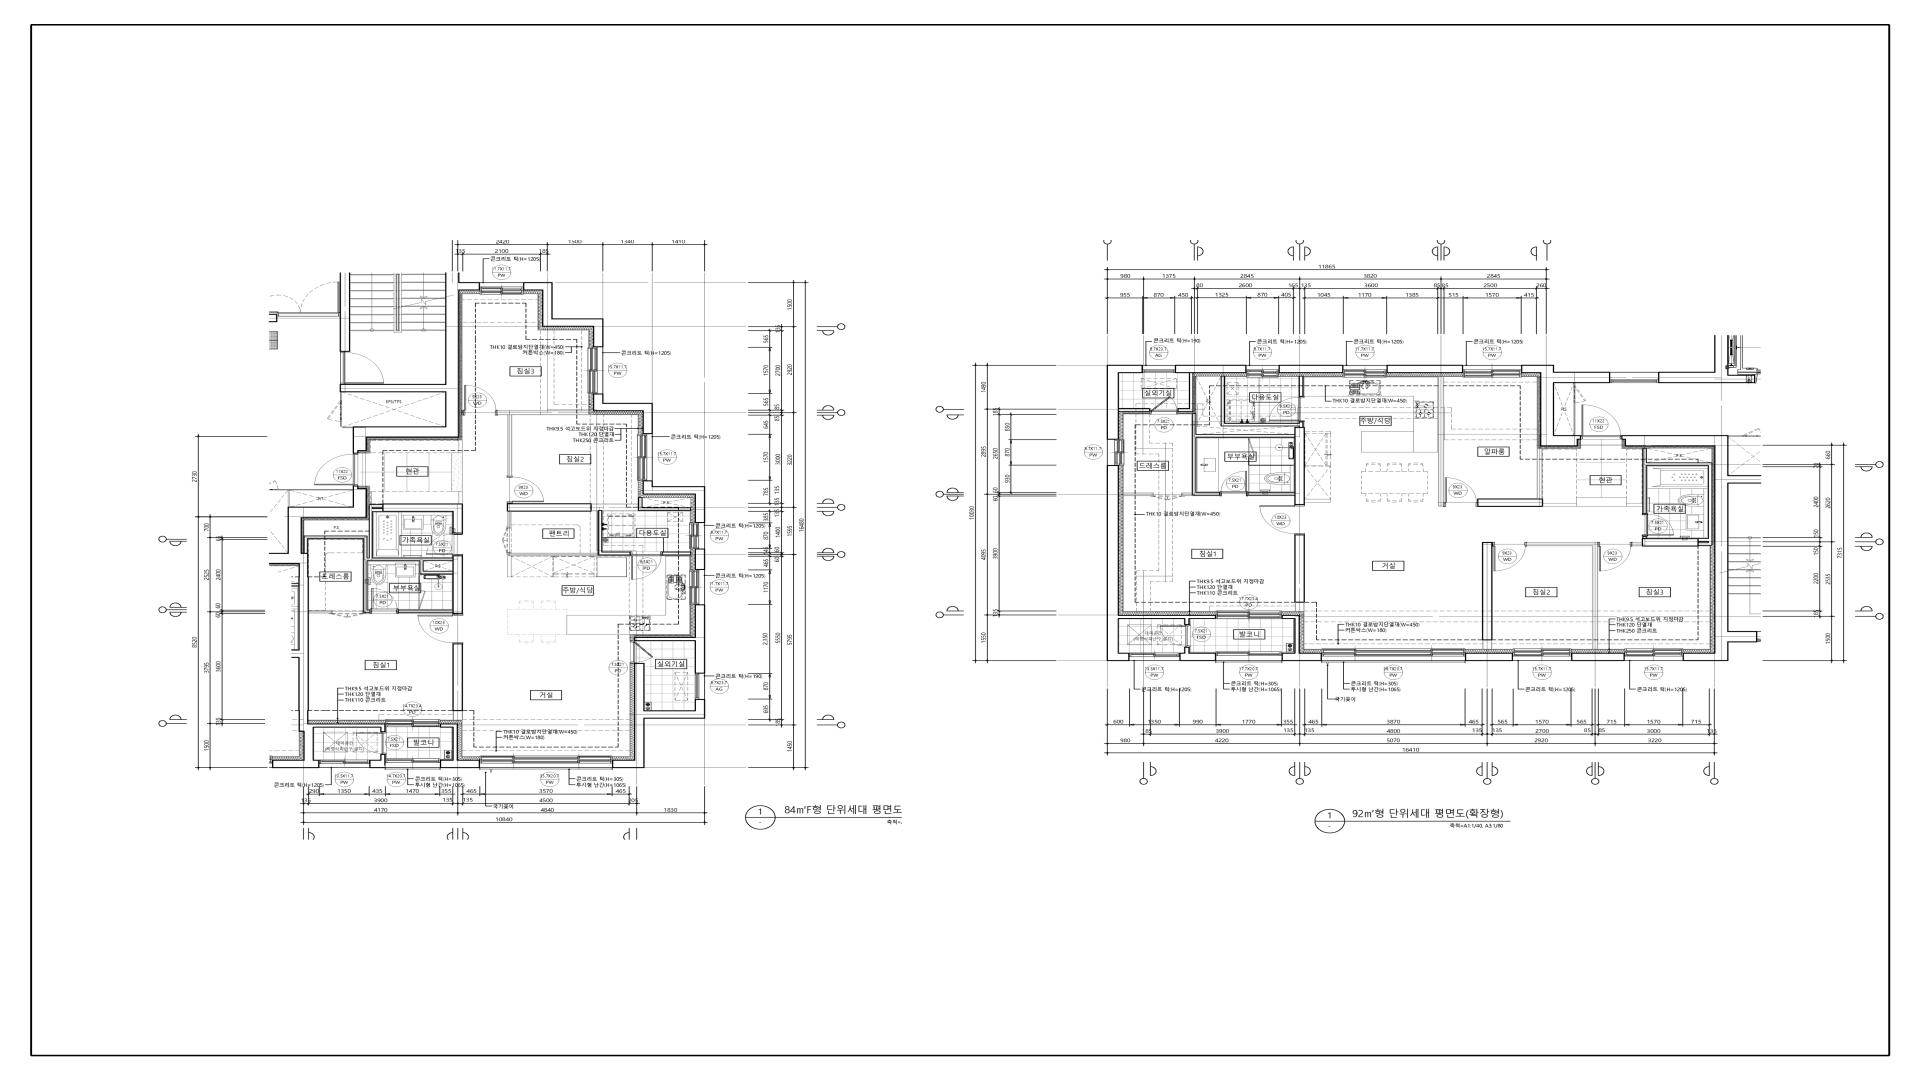door: (277, 282, 340, 316), (314, 454, 359, 485), (1581, 405, 1622, 439), (1259, 505, 1305, 535), (340, 352, 384, 384), (418, 615, 463, 644), (1493, 542, 1527, 572), (506, 476, 543, 504), (1444, 477, 1477, 508), (464, 385, 497, 415), (1598, 542, 1633, 571), (630, 551, 662, 580), (1269, 397, 1304, 422), (426, 534, 463, 555), (371, 588, 398, 615), (1158, 625, 1189, 647), (1642, 514, 1673, 537), (1220, 471, 1247, 496), (355, 732, 385, 754), (630, 641, 653, 663), (1150, 397, 1178, 414), (327, 401, 342, 422), (501, 527, 512, 553), (331, 611, 363, 618), (1573, 385, 1586, 404), (1153, 493, 1183, 501), (1743, 429, 1762, 436), (419, 591, 426, 609), (1249, 439, 1255, 456), (269, 480, 278, 491)
wall: (1622, 435, 1762, 662), (287, 485, 385, 769), (340, 273, 480, 454), (1106, 465, 1216, 661), (303, 504, 452, 613), (1183, 376, 1305, 505), (612, 663, 705, 769), (1626, 448, 1713, 547), (1527, 542, 1598, 649), (1522, 365, 1610, 447), (497, 410, 588, 476), (1477, 448, 1577, 506), (524, 282, 604, 347), (634, 605, 705, 674), (1659, 335, 1755, 384), (398, 555, 463, 615), (382, 492, 463, 534), (506, 504, 638, 527), (642, 480, 705, 524), (1106, 365, 1142, 439), (593, 394, 653, 434), (508, 553, 597, 578), (1282, 615, 1321, 661), (440, 724, 480, 769), (597, 510, 630, 556), (278, 489, 353, 506), (1482, 542, 1493, 649), (340, 273, 351, 352), (452, 644, 463, 720), (1295, 535, 1305, 612), (638, 497, 691, 512), (1439, 377, 1444, 506), (1178, 373, 1193, 411), (1387, 365, 1462, 373), (1175, 365, 1246, 373), (1279, 365, 1344, 373), (1572, 653, 1625, 662), (1180, 647, 1216, 661), (1465, 653, 1513, 661), (369, 754, 385, 769), (695, 549, 705, 570), (1120, 407, 1150, 411), (662, 551, 691, 555), (1299, 376, 1304, 397), (340, 422, 353, 429), (1573, 404, 1576, 435), (1124, 493, 1153, 496), (269, 314, 277, 322), (309, 611, 331, 613), (459, 440, 463, 452), (1729, 435, 1743, 436), (462, 410, 464, 415), (340, 393, 342, 401), (1573, 384, 1576, 385)
window: (1321, 649, 1465, 663), (480, 756, 612, 770), (1216, 651, 1282, 663), (588, 347, 604, 394), (637, 434, 653, 480), (1462, 365, 1522, 377), (1625, 649, 1684, 661), (1513, 649, 1572, 661), (385, 758, 440, 770), (690, 570, 705, 605), (480, 282, 524, 294), (1344, 365, 1387, 377), (1610, 372, 1659, 382), (1108, 439, 1125, 465), (385, 720, 440, 728), (1216, 612, 1282, 618), (1129, 653, 1180, 661), (319, 760, 369, 767), (690, 524, 705, 549), (1246, 365, 1279, 377), (695, 674, 705, 699), (1142, 365, 1175, 373)
